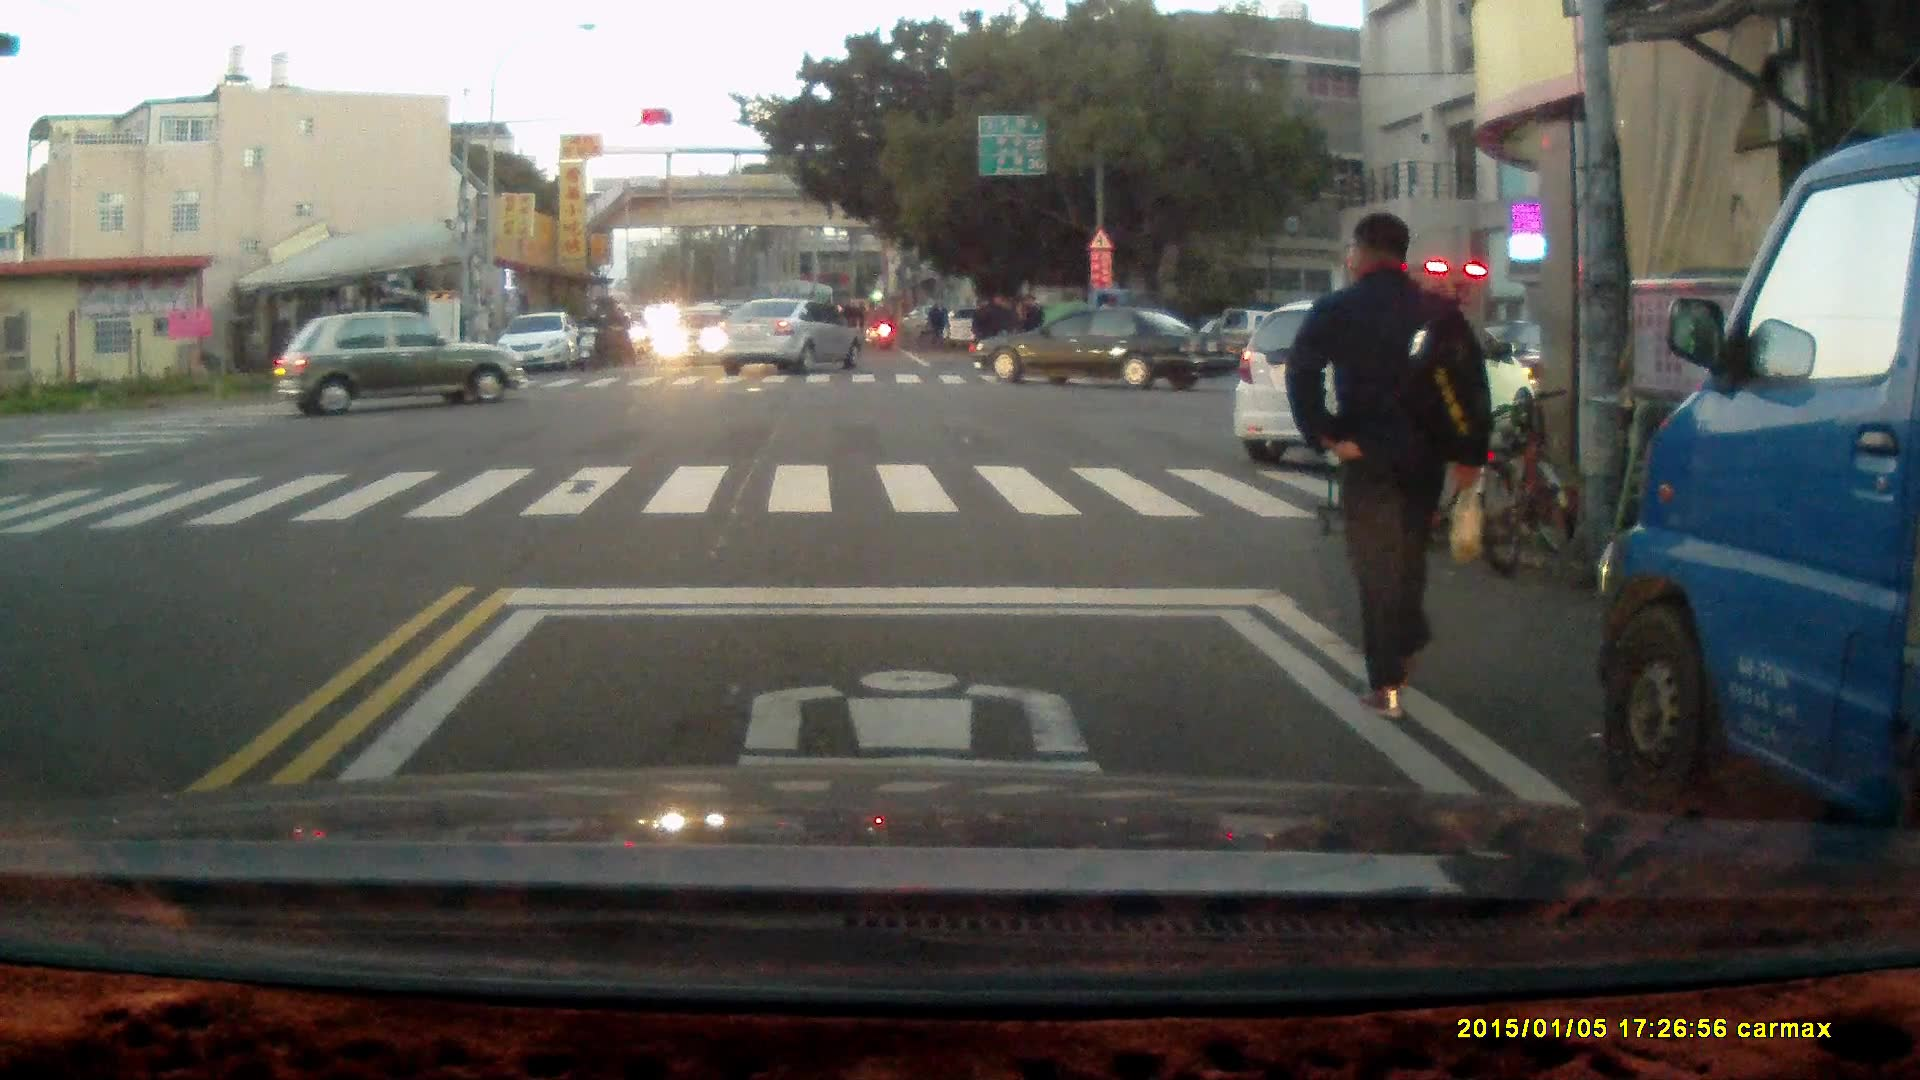pedestrian: (1282, 206, 1491, 711), (981, 292, 1012, 371), (1013, 289, 1042, 367), (927, 294, 948, 353)
rider: (576, 301, 608, 368), (603, 302, 632, 367)
vehicle: (1598, 132, 1920, 849), (1233, 296, 1533, 459), (274, 311, 517, 421), (982, 304, 1226, 393), (707, 299, 871, 377), (498, 313, 586, 377)
